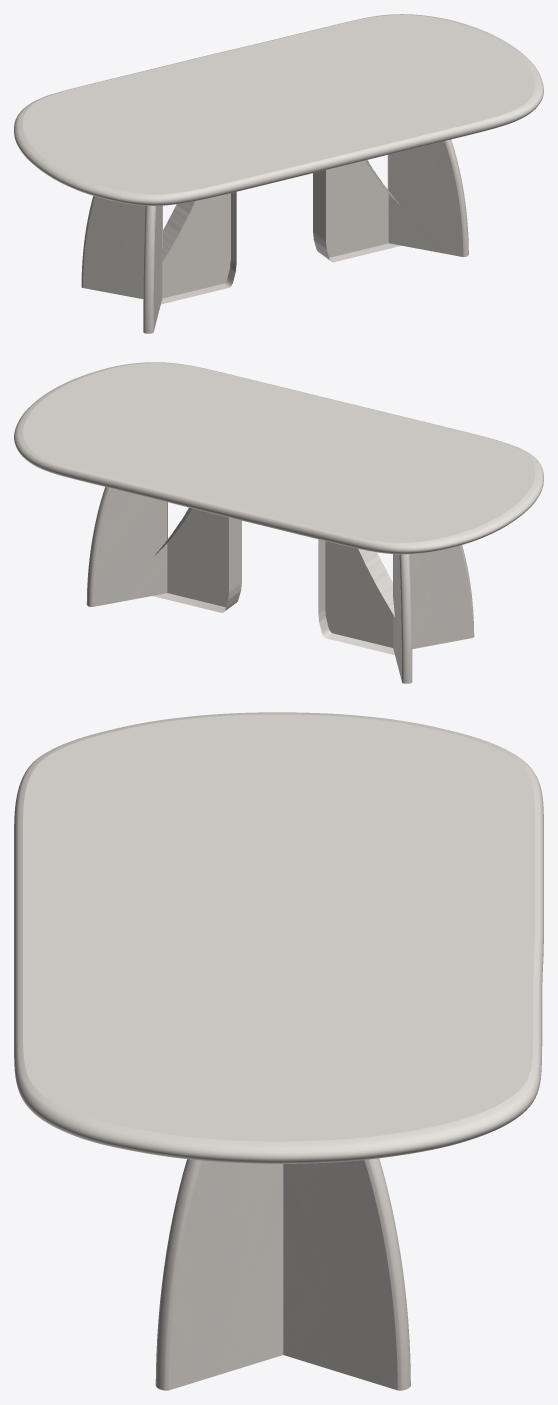
Rendered from pearlwhite_oval_round_plane.glb.
3 renders of one model, top to bottom at view 1: azimuth 30°, elevation 25°; view 2: azimuth 150°, elevation 25°; view 3: azimuth 270°, elevation 25°, orthographic. The views are drawn at different scales.
Visible parts, largest first — view 1: round_oval, plane_singleright2, plane_single1, plane_single2, plane_singleleft1, plane_singleright1; view 2: round_oval, plane_singleleft2, plane_single1, plane_single2, plane_singleright1, plane_singleleft1; view 3: round_oval, plane_singleright2, plane_singleleft2.
Part boxes in pixels (box(x1,y1,x2,y2)): round_oval: box(14, 14, 543, 205); plane_singleright2: box(388, 139, 468, 257); plane_single1: box(161, 192, 236, 304); plane_single2: box(313, 160, 400, 262); plane_singleleft1: box(81, 196, 162, 299); plane_singleright1: box(143, 205, 162, 333); round_oval: box(14, 362, 543, 554); plane_singleleft2: box(86, 487, 167, 606); plane_single1: box(318, 539, 394, 654); plane_single2: box(153, 507, 241, 612); plane_singleright1: box(393, 545, 474, 649); plane_singleleft1: box(393, 554, 412, 683); round_oval: box(14, 712, 543, 1163); plane_singleright2: box(155, 1159, 283, 1390); plane_singleleft2: box(283, 1158, 410, 1390).
Bounding box in the file's own units: 7.5 × 2.49 × 3.8.
1 material, 1 textured.
